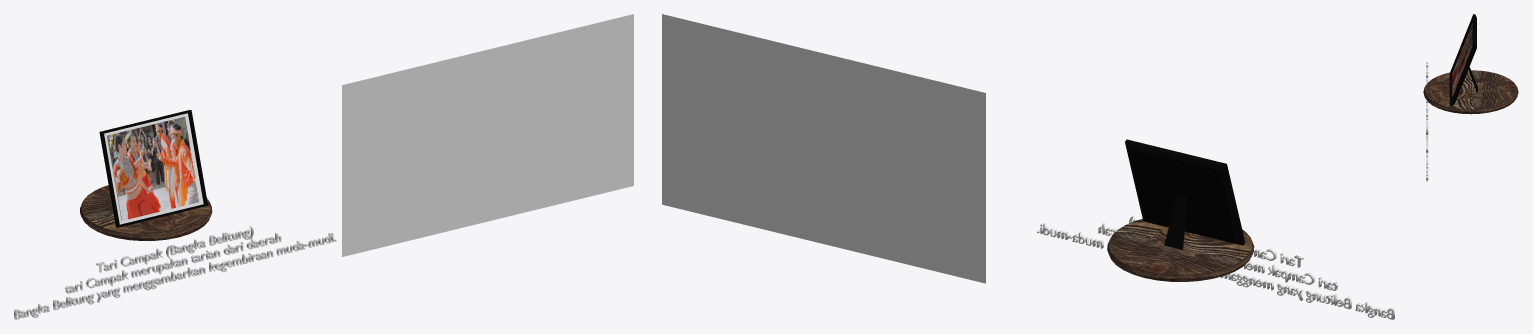
Rendered from 11. Tari campak (Bangka belitung).fbx.
3 renders of one model, left to right at view 1: azimuth 30°, elevation 25°; view 2: azimuth 150°, elevation 25°; view 3: azimuth 270°, elevation 25°, orthographic. The views are drawn at different scales.
Visible parts, largest first — view 1: Plane, Cube.011, Text; view 2: Plane, Cube.011, Text; view 3: Cube.011, Text.
Boxes of the visible parts, <box> form: Plane: <box>342,14,633,256</box>; Cube.011: <box>80,110,212,240</box>; Text: <box>14,226,336,319</box>; Plane: <box>662,14,985,283</box>; Cube.011: <box>1107,139,1254,281</box>; Text: <box>1037,215,1394,319</box>; Cube.011: <box>1423,14,1518,114</box>; Text: <box>1426,62,1428,181</box>.
Size of the model in its own units: 7008 by 1806 by 1260.
6 materials, 3 textured.
